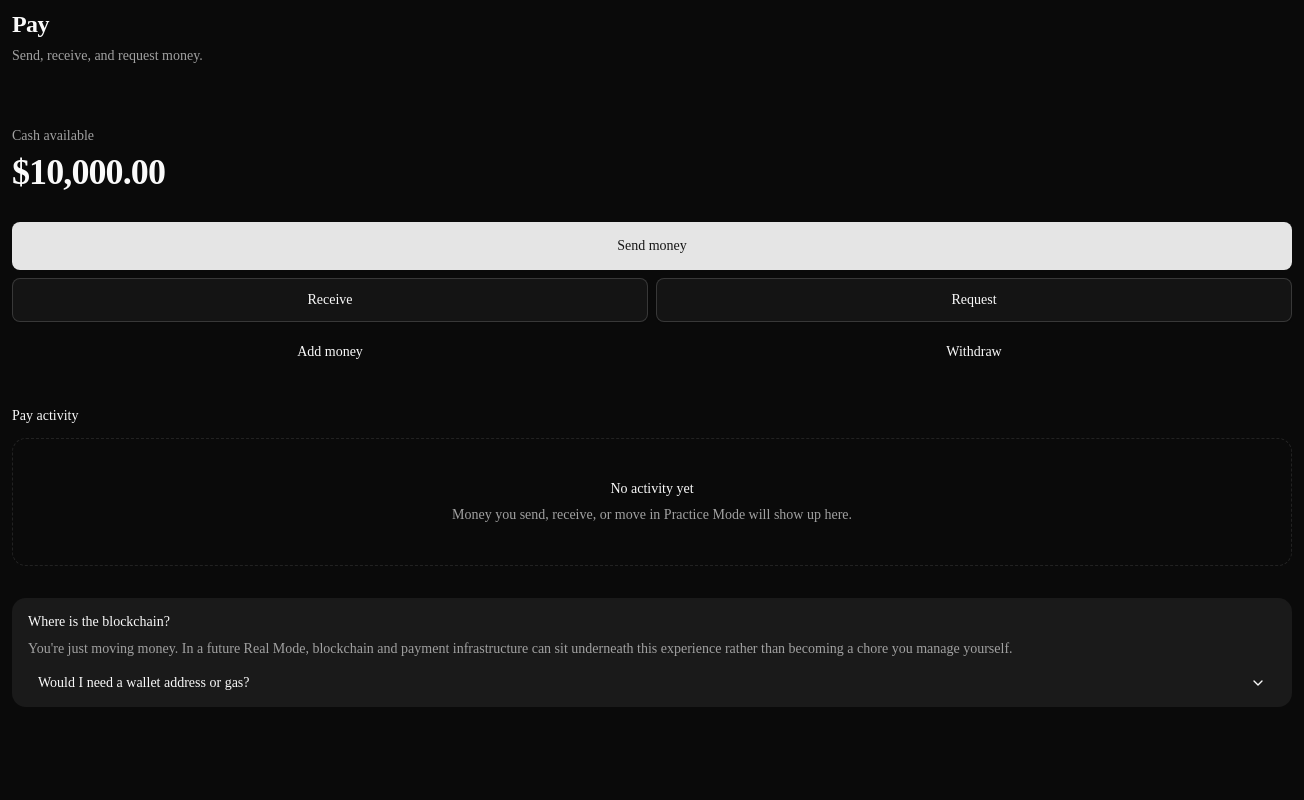
Test: PayView › opens the blockchain progressive-disclosure explainer
This screenshot has width=1304, height=800.
Expected: the text "Where is the blockchain?" is shown, [28,614,170,629]
Click the button "Would I need a wallet address or gas?". click: coordinates (144, 682)
box: [28,673,1276,693]
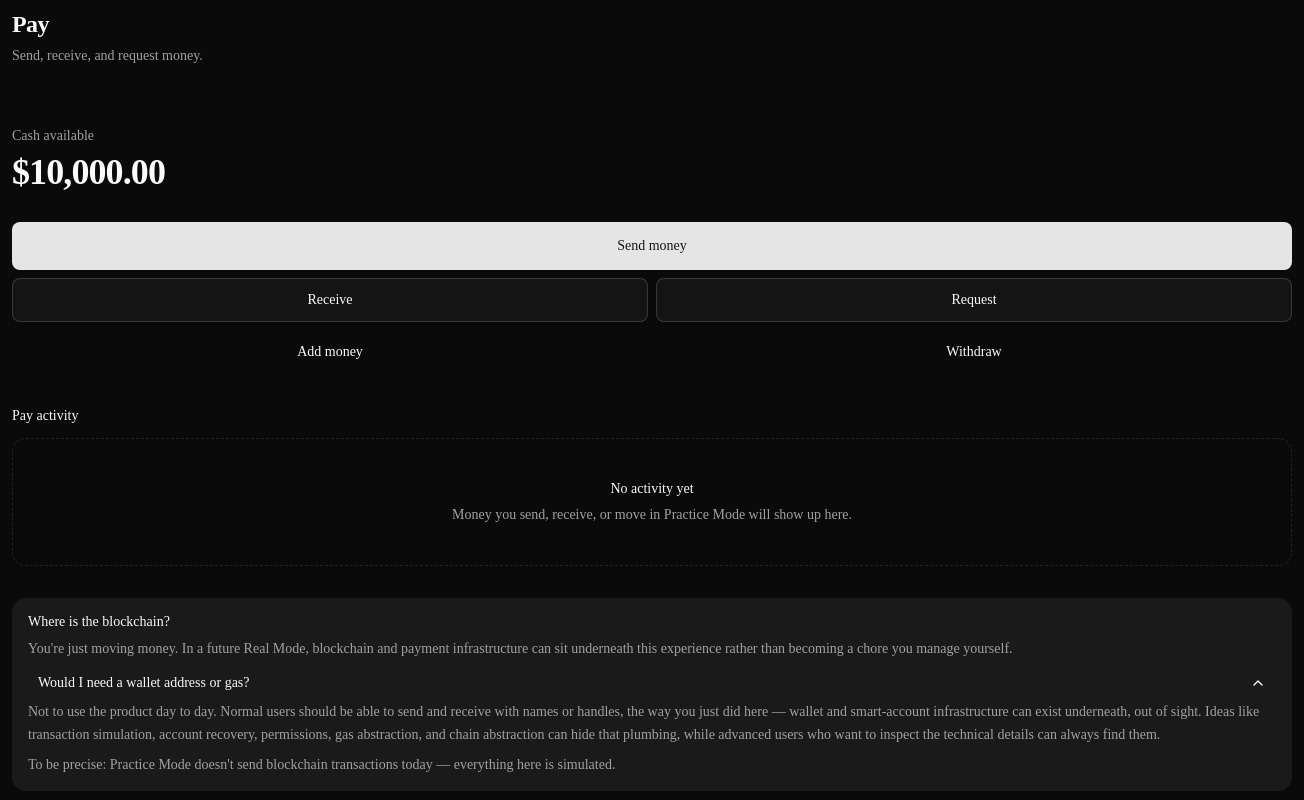
Expected: the text "doesn.t send blockchain transactions today" is shown, [28,757,615,772]
